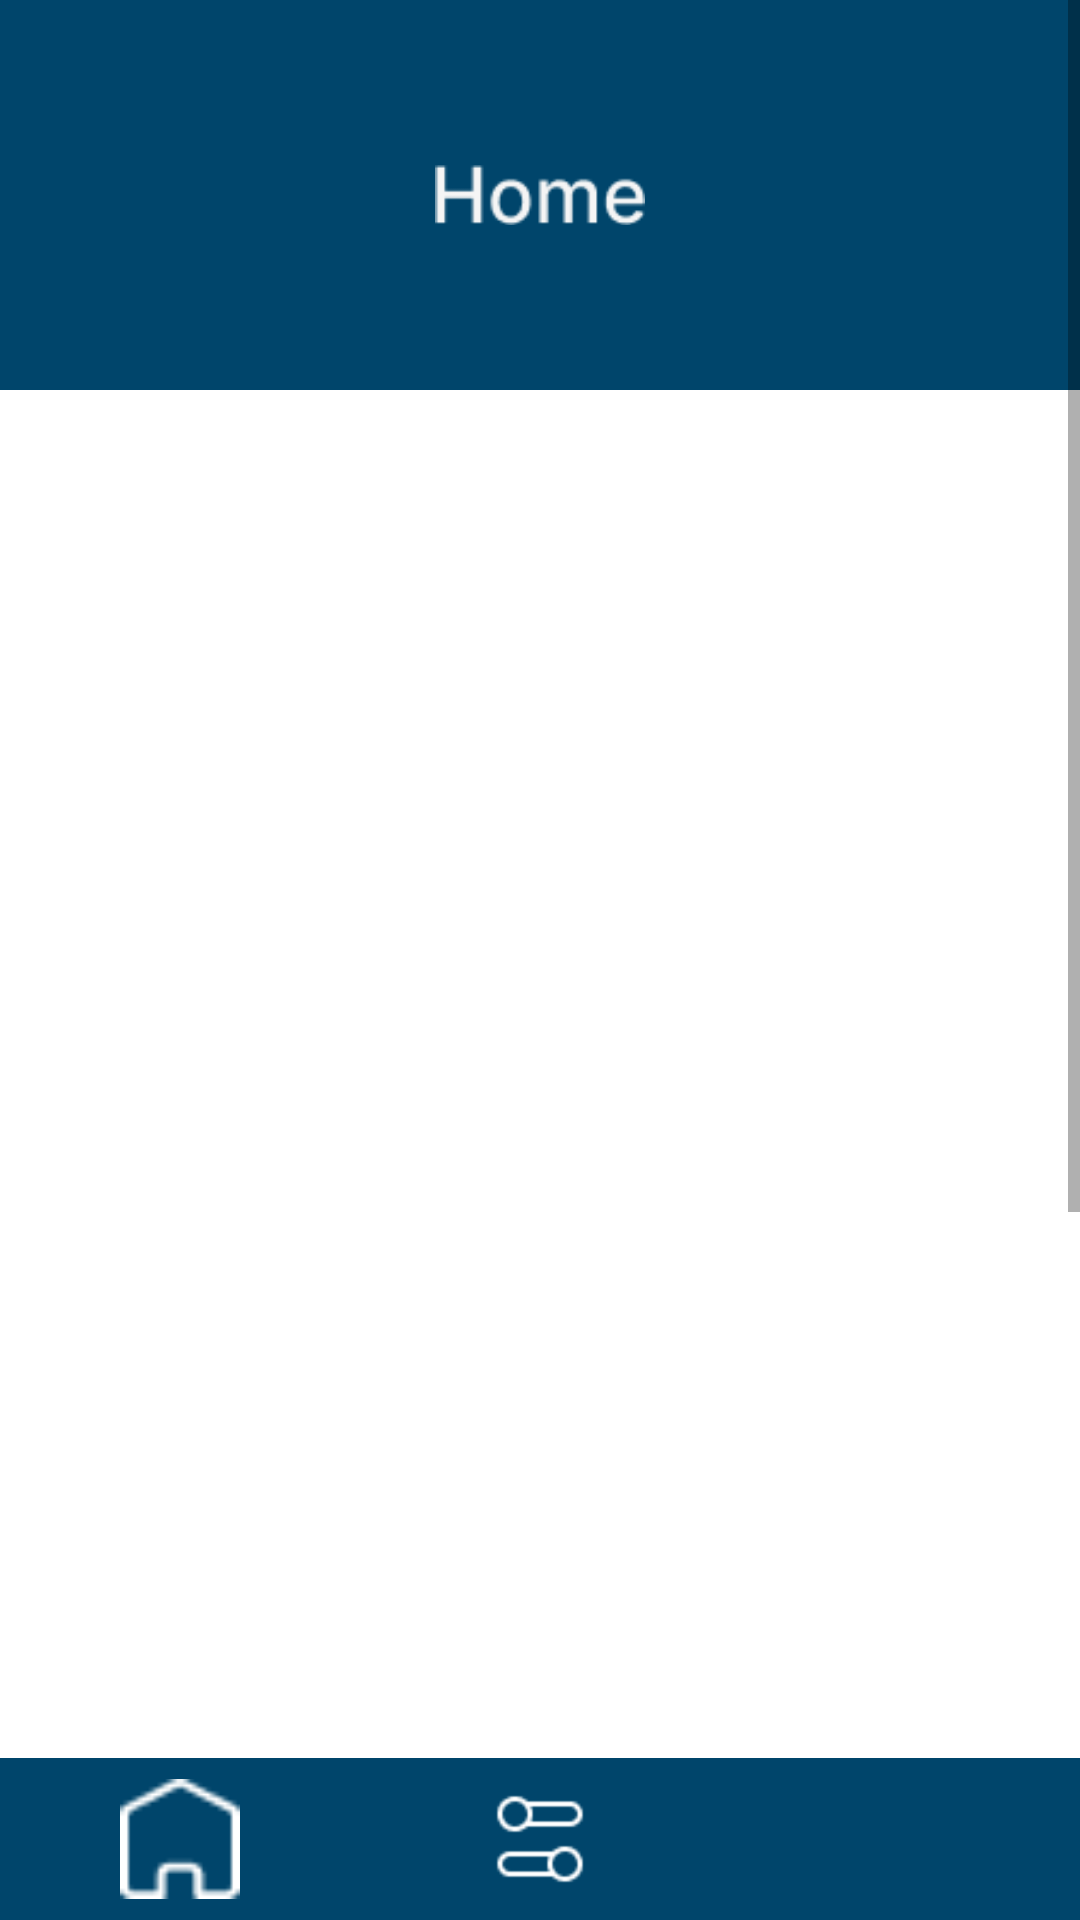

Icon bounding boxes for this 1080 x 1920 phone screenshot, format (x1, y1, x2, y2):
hbutton: (120, 1779, 240, 1899)
